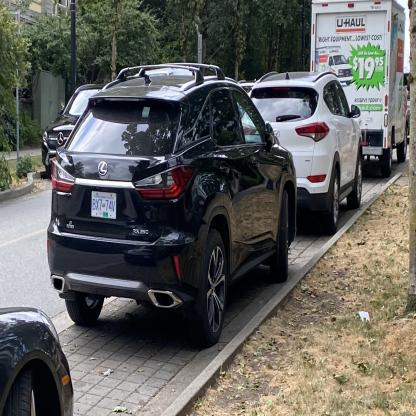License-Plate: (87, 186, 120, 228)
